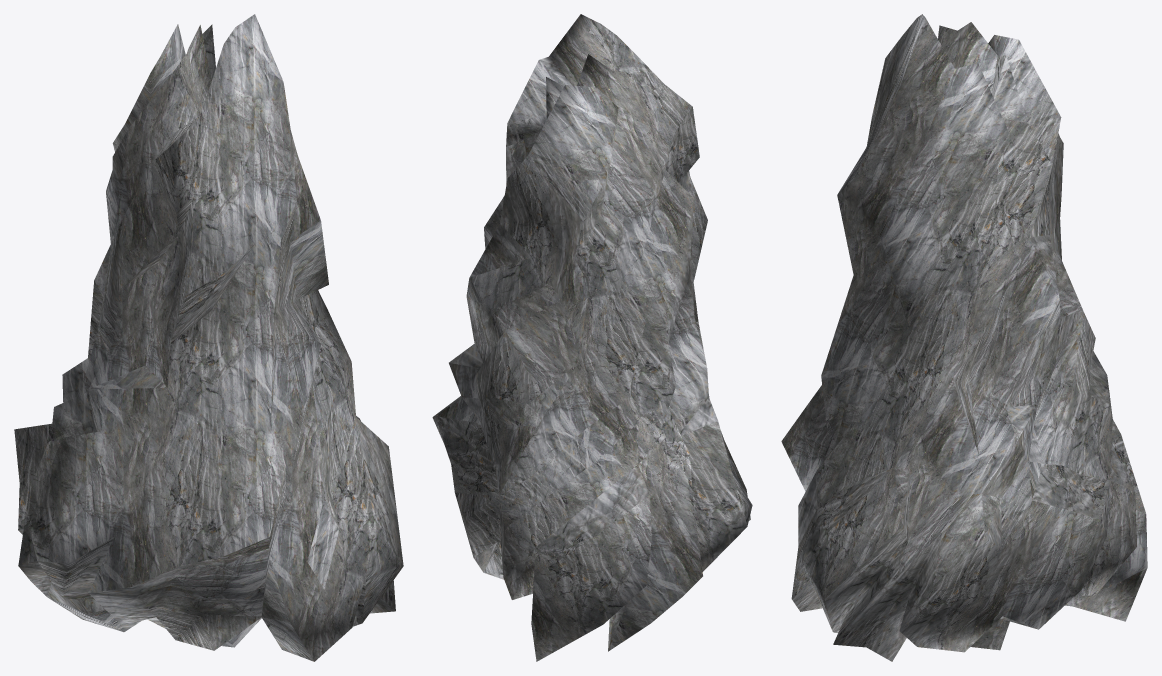
The model's file is pointy_011.dae.
3 renders of one model, left to right at view 1: azimuth 30°, elevation 25°; view 2: azimuth 150°, elevation 25°; view 3: azimuth 270°, elevation 25°, orthographic. The views are drawn at different scales.
Visible parts, largest first — view 1: rock0; view 2: rock0; view 3: rock0.
Boxes of the visible parts, x1,y1,x2,y2 form: rock0: [14, 14, 403, 661]; rock0: [432, 14, 752, 661]; rock0: [781, 14, 1147, 661].
Size of the model in its own units: 2.33 by 2.19 by 4.25.
